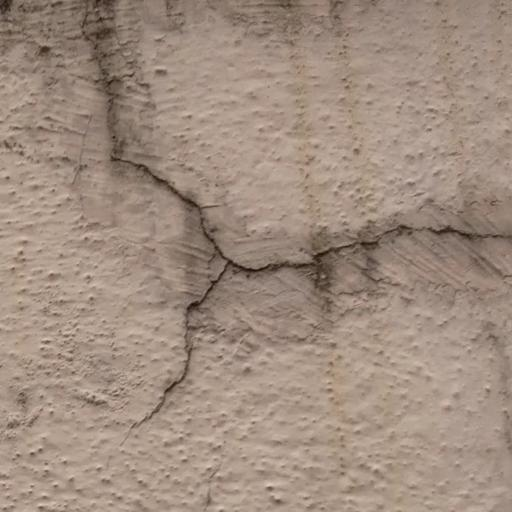minor_crack: (75, 0, 512, 433)
